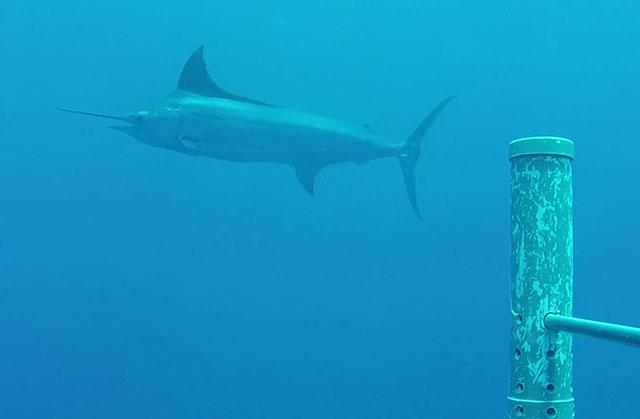Mulut: (49, 86, 157, 166)
Sirip Dada: (344, 118, 390, 184), (162, 123, 220, 163)
Sirip Ekor: (391, 84, 472, 232)
Sirip Perut: (280, 150, 334, 204)
Sirip Punggung: (166, 35, 282, 123)
